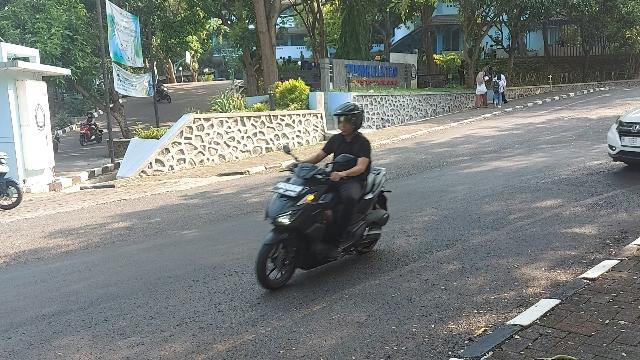helm: (336, 103, 365, 136)
motor: (257, 147, 394, 293)
